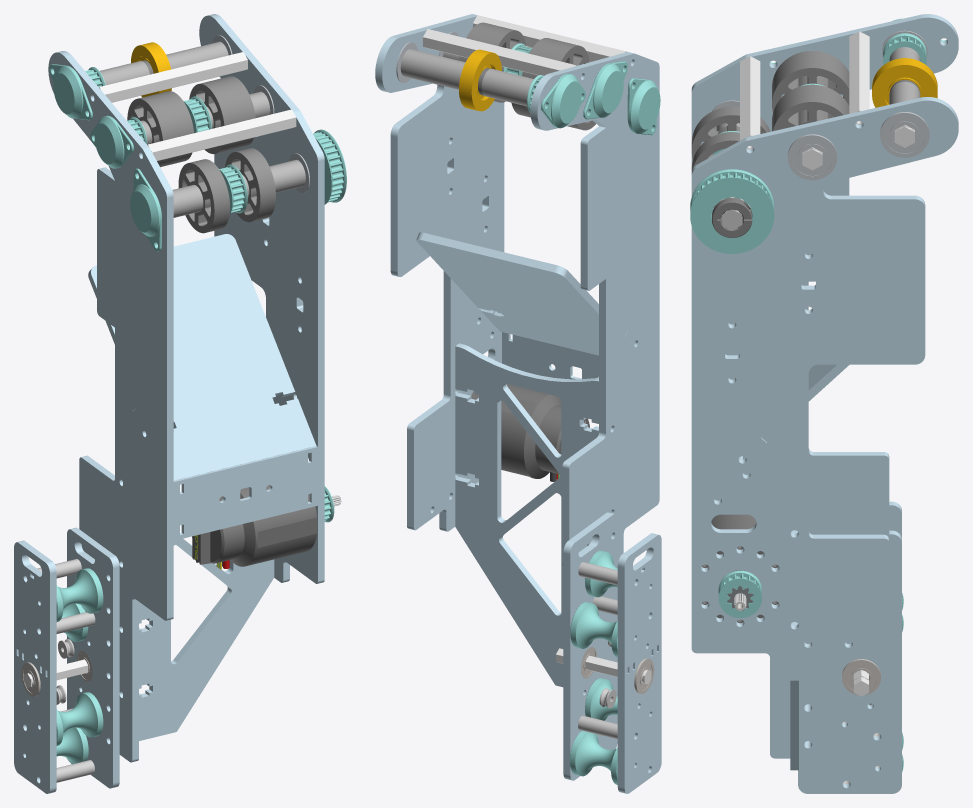
3 views of the same model, side by side, from view 1: azimuth 30°, elevation 25°; view 2: azimuth 150°, elevation 25°; view 3: azimuth 270°, elevation 25° (orthographic). The views are drawn at different scales.
Visible parts, largest first — view 1: Model_2; view 2: Model_2; view 3: Model_2.
Boxes of the visible parts, box(x1,y1,x2,y2) form: Model_2: box(14, 14, 346, 793); Model_2: box(375, 14, 661, 793); Model_2: box(690, 14, 958, 793).
Bounding box in the file's own units: 0.2101 × 0.5396 × 0.1684.
